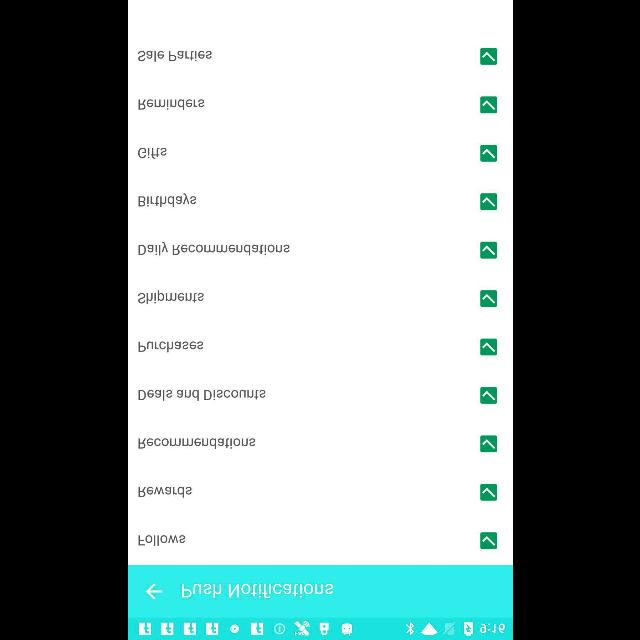checkbox: (479, 532, 496, 550), (479, 386, 496, 404), (479, 338, 496, 356), (479, 290, 496, 308), (479, 144, 496, 162), (479, 96, 496, 114), (479, 484, 496, 501), (479, 193, 496, 210), (479, 49, 496, 66), (479, 436, 496, 452), (479, 242, 496, 258)
icon: (144, 582, 162, 600)
text: (181, 583, 333, 599), (138, 242, 288, 256), (137, 389, 265, 401), (138, 438, 255, 449), (136, 290, 204, 304), (137, 50, 211, 62), (137, 193, 195, 207), (138, 99, 204, 111), (138, 341, 202, 353), (137, 486, 191, 498), (138, 534, 185, 546), (138, 147, 166, 159)
uppertaskbar: (128, 617, 512, 639)
